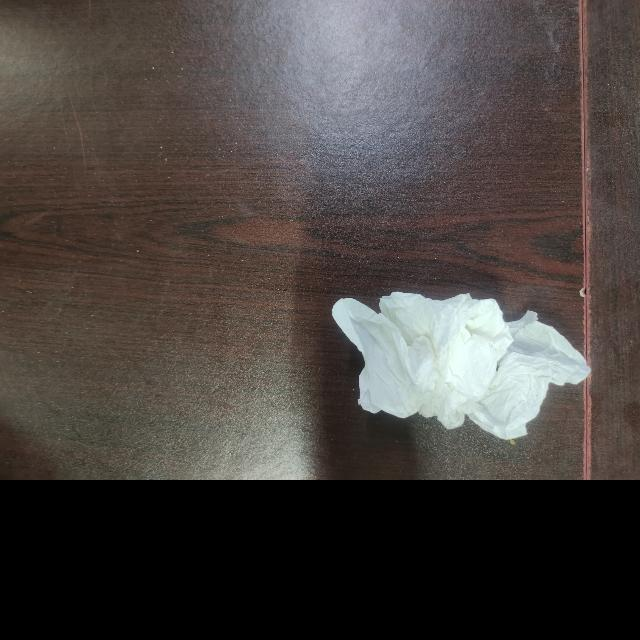kitchen paper: (325, 272, 599, 454)
